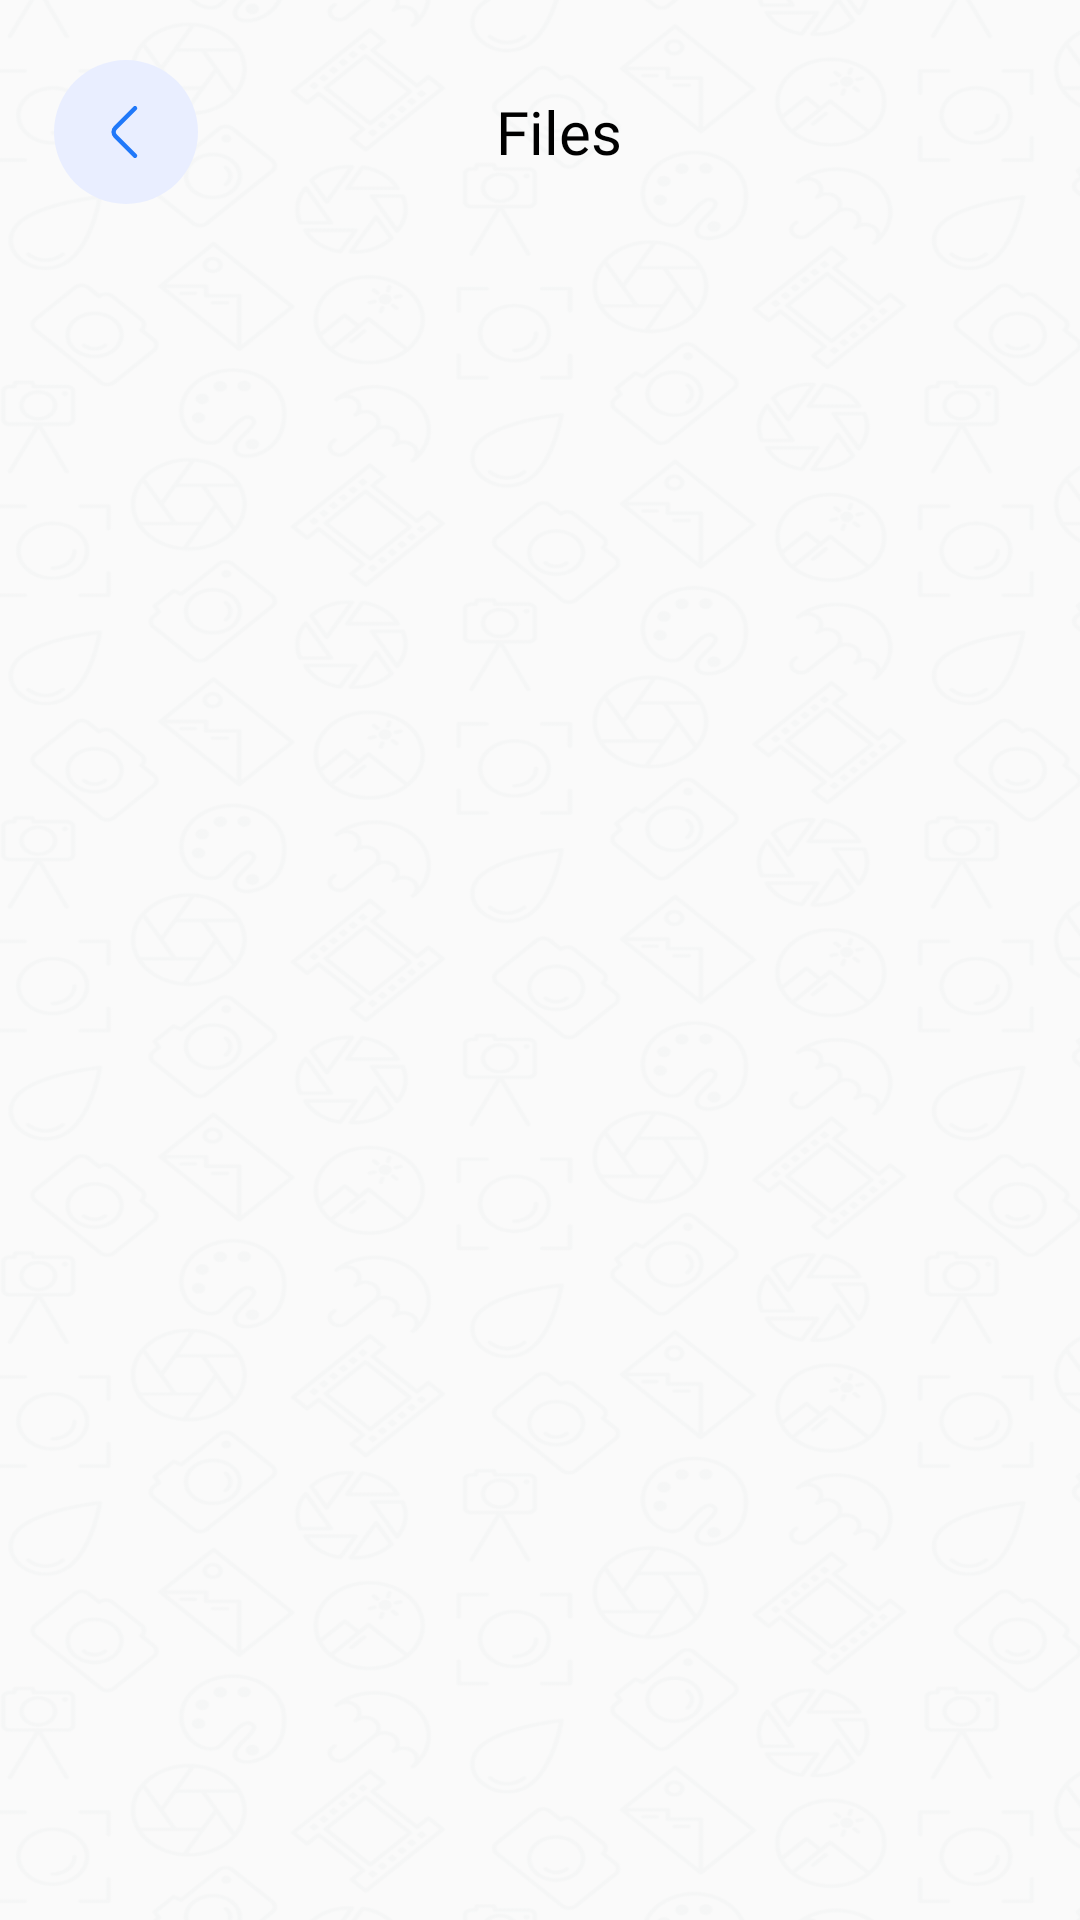

Named icons in this screenshot (1080w x 1920h) and their bounding boxes, Rect(x1, y1, x2, y2):
back: Rect(54, 60, 198, 204)
